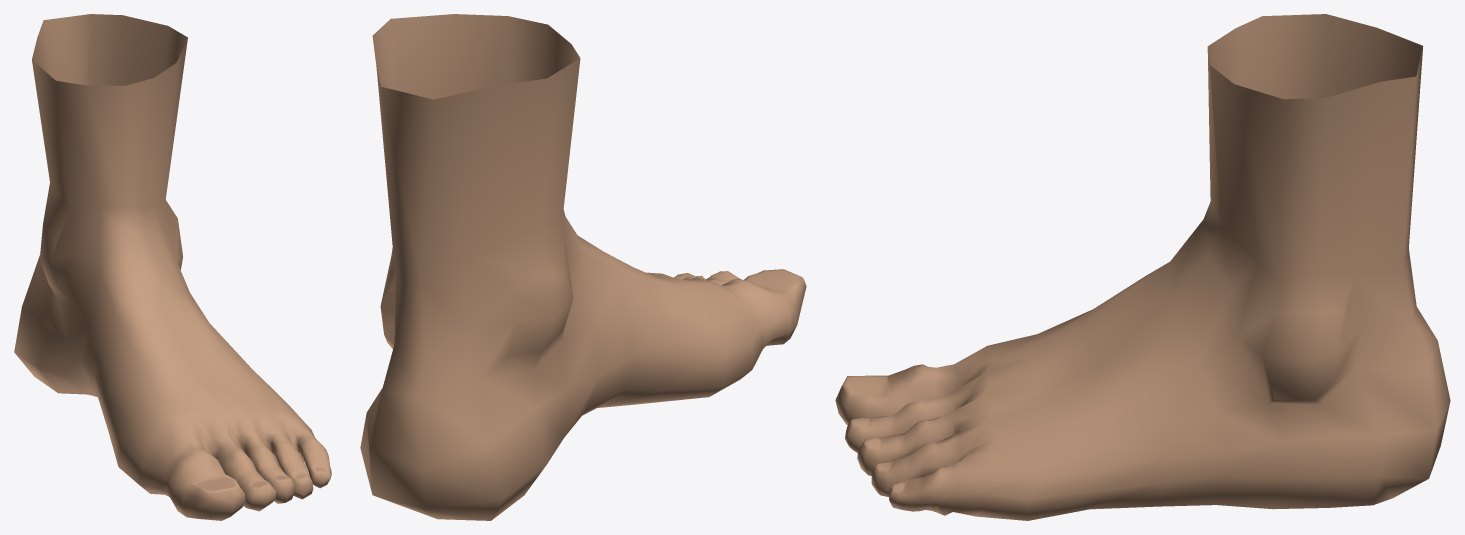
The model's file is human-foot.glb.
3 views of the same model, side by side, from view 1: azimuth 30°, elevation 25°; view 2: azimuth 150°, elevation 25°; view 3: azimuth 270°, elevation 25° (orthographic). The views are drawn at different scales.
Visible parts, largest first — view 1: Cube.001; view 2: Cube.001; view 3: Cube.001.
Part boxes in pixels (bbox=[...]): Cube.001: bbox=[14, 14, 331, 520]; Cube.001: bbox=[360, 14, 806, 520]; Cube.001: bbox=[835, 14, 1450, 520].
Size of the model in its own units: 0.4058 by 0.746 by 0.9583.
